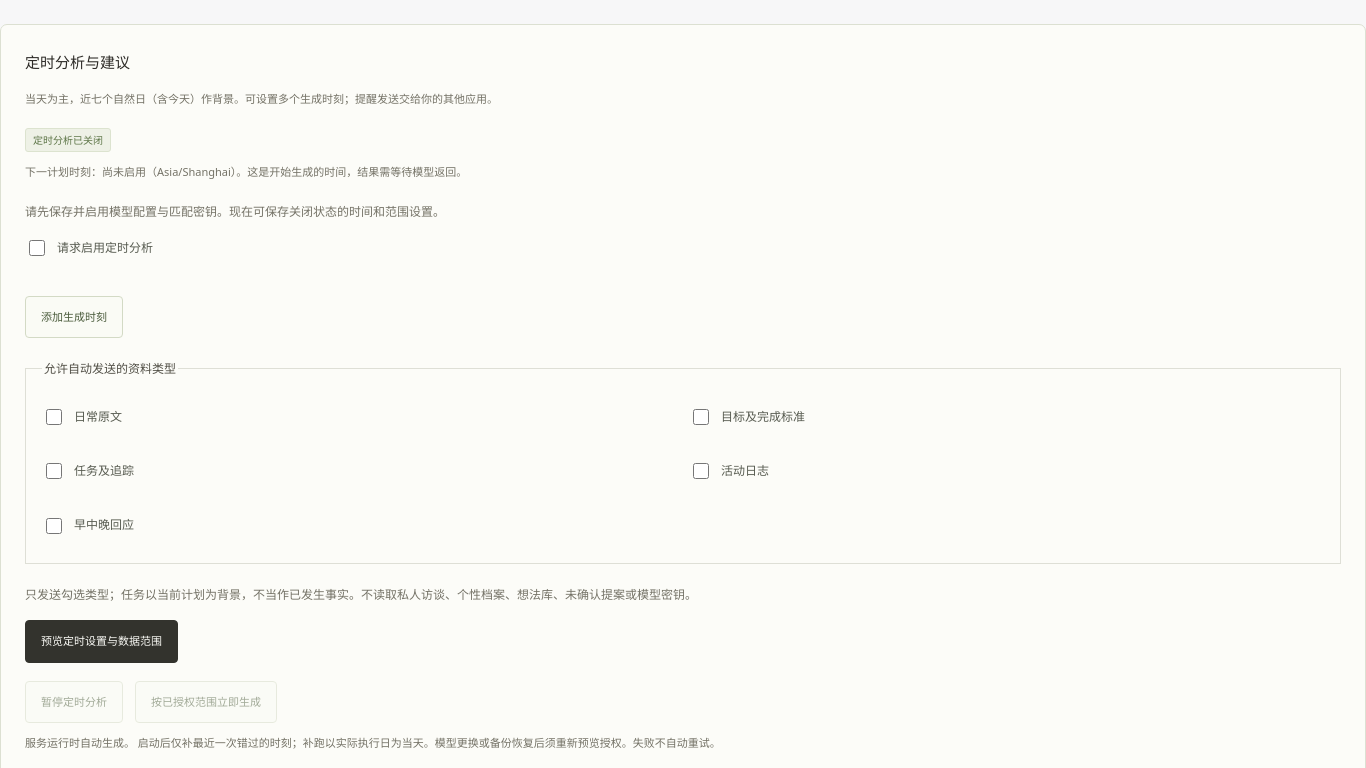
Test case: keeps settings on save failure and blocks activation without a ready model
Click the button "预览定时设置与数据范围" at (102, 642), box [25,620,178,663]
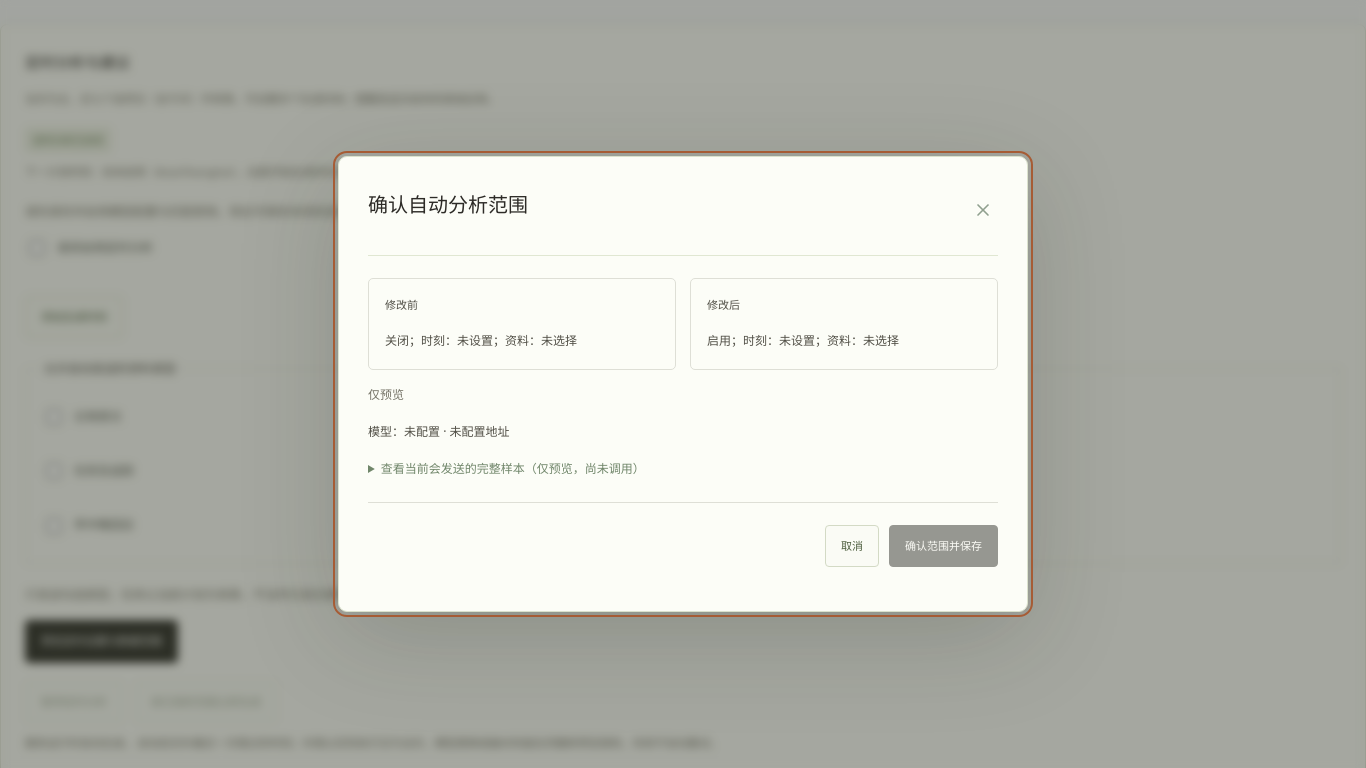
Expected: the button "确认范围并保存" is disabled, [889,525,998,567]
